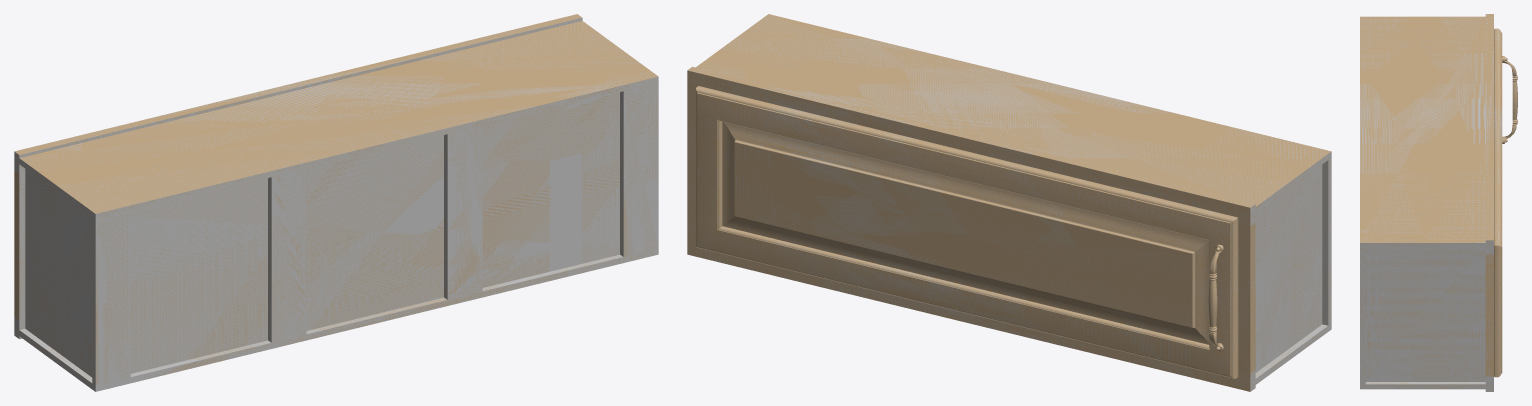
3 views of the same model, side by side, from view 1: azimuth 30°, elevation 25°; view 2: azimuth 150°, elevation 25°; view 3: azimuth 270°, elevation 25° (orthographic). The views are drawn at different scales.
Parts seen in each view (by area): view 1: mesh6_mesh6-geometry, mesh8_mesh8-geometry, mesh3_mesh3-geometry, mesh1_mesh1-geometry, mesh7_mesh7-geometry, mesh9_mesh9-geometry, mesh27_mesh27-geometry, mesh4_mesh4-geometry; view 2: mesh8_mesh8-geometry, mesh21_mesh21-geometry, mesh19_mesh19-geometry, mesh18_mesh18-geometry, mesh1_mesh1-geometry, mesh9_mesh9-geometry, mesh10_mesh10-geometry, mesh4_mesh4-geometry, mesh17_mesh17-geometry, mesh16_mesh16-geometry, mesh15_mesh15-geometry, mesh13_mesh13-geometry (+4 smaller); view 3: mesh8_mesh8-geometry, mesh2_mesh2-geometry, mesh9_mesh9-geometry, mesh19_mesh19-geometry, mesh4_mesh4-geometry, mesh7_mesh7-geometry, mesh3_mesh3-geometry, mesh16_mesh16-geometry, mesh13_mesh13-geometry, mesh12_mesh12-geometry, mesh26_mesh26-geometry, mesh15_mesh15-geometry.
Part boxes in pixels (bbox=[...]): mesh6_mesh6-geometry: bbox=[130, 92, 619, 373]; mesh8_mesh8-geometry: bbox=[19, 21, 658, 219]; mesh3_mesh3-geometry: bbox=[92, 83, 658, 385]; mesh1_mesh1-geometry: bbox=[25, 169, 92, 377]; mesh7_mesh7-geometry: bbox=[19, 248, 658, 391]; mesh9_mesh9-geometry: bbox=[14, 14, 582, 173]; mesh27_mesh27-geometry: bbox=[549, 153, 581, 271]; mesh4_mesh4-geometry: bbox=[14, 170, 25, 320]; mesh8_mesh8-geometry: bbox=[696, 14, 1331, 212]; mesh21_mesh21-geometry: bbox=[736, 144, 1190, 325]; mesh19_mesh19-geometry: bbox=[736, 96, 1195, 254]; mesh18_mesh18-geometry: bbox=[736, 215, 1193, 368]; mesh1_mesh1-geometry: bbox=[1255, 165, 1322, 372]; mesh9_mesh9-geometry: bbox=[687, 66, 1255, 226]; mesh10_mesh10-geometry: bbox=[687, 236, 1255, 391]; mesh4_mesh4-geometry: bbox=[687, 89, 1255, 373]; mesh17_mesh17-geometry: bbox=[1191, 254, 1238, 335]; mesh16_mesh16-geometry: bbox=[696, 133, 736, 214]; mesh15_mesh15-geometry: bbox=[1191, 207, 1238, 264]; mesh13_mesh13-geometry: bbox=[696, 86, 740, 143]; mesh8_mesh8-geometry: bbox=[1360, 16, 1485, 247]; mesh2_mesh2-geometry: bbox=[1365, 248, 1485, 381]; mesh9_mesh9-geometry: bbox=[1485, 14, 1493, 255]; mesh19_mesh19-geometry: bbox=[1494, 46, 1502, 230]; mesh4_mesh4-geometry: bbox=[1485, 255, 1493, 376]; mesh7_mesh7-geometry: bbox=[1360, 382, 1485, 389]; mesh3_mesh3-geometry: bbox=[1360, 248, 1365, 384]; mesh16_mesh16-geometry: bbox=[1494, 281, 1502, 340]; mesh13_mesh13-geometry: bbox=[1494, 228, 1502, 282]; mesh12_mesh12-geometry: bbox=[1494, 339, 1502, 377]; mesh26_mesh26-geometry: bbox=[1512, 81, 1517, 120]; mesh15_mesh15-geometry: bbox=[1494, 28, 1502, 48].
Bounding box in the file's own units: 0.9188 × 0.2871 × 0.271.
